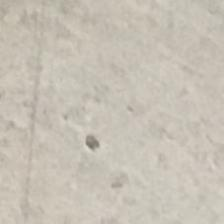Non_Crack: (17, 12, 204, 132)
